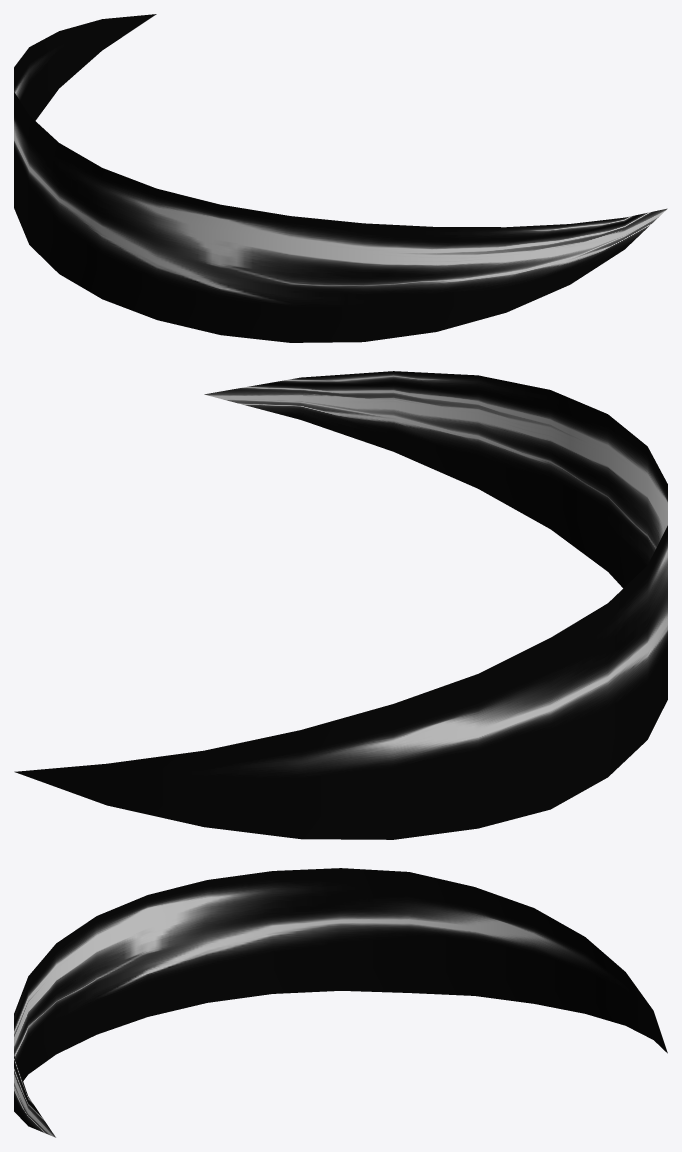
The model's file is 0225_biexipushou.glb.
3 views of the same model, one above another, from view 1: azimuth 30°, elevation 25°; view 2: azimuth 150°, elevation 25°; view 3: azimuth 270°, elevation 25° (orthographic). The views are drawn at different scales.
Bounding box in the file's own units: 1.66 × 0.4564 × 2.2.
Materials: 1 (1 with a texture image).
